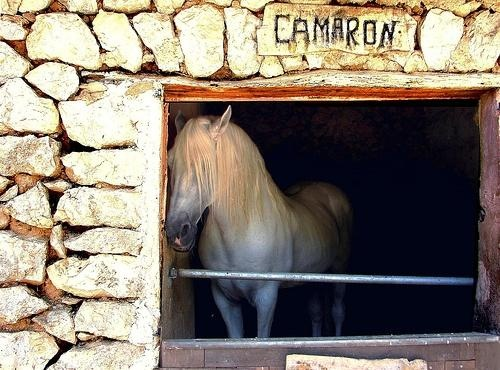horse: (166, 103, 355, 342)
